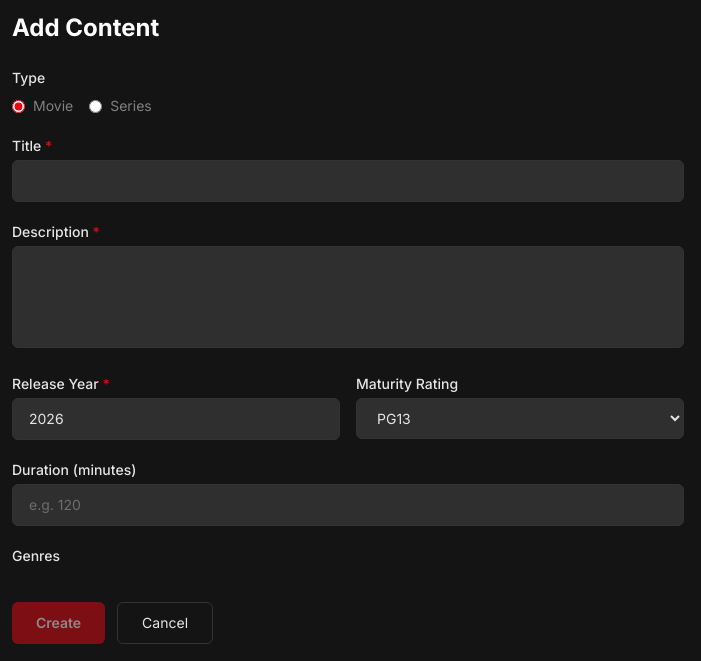
it: ContentForm › hides duration field for Series type
The width and height of the screenshot is (701, 661).
Click the radio button labelled "Series".
click(96, 106)  # box [89,100,102,112]
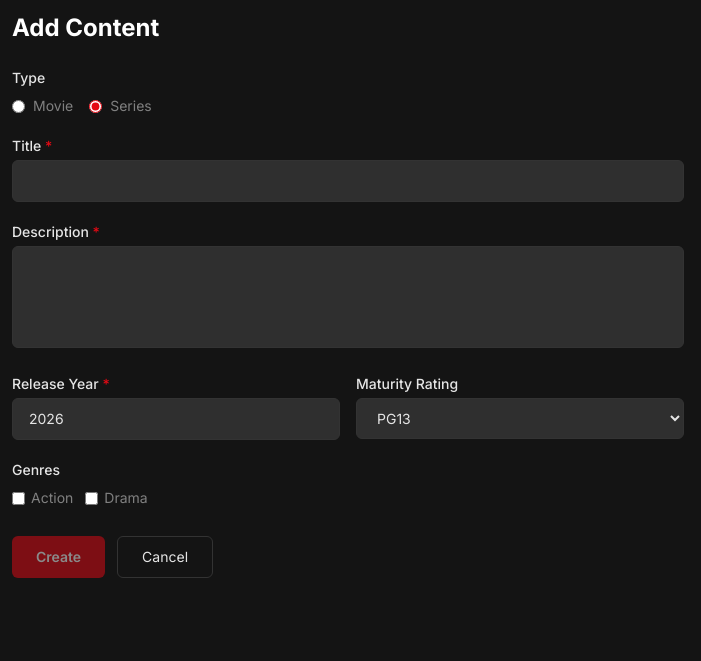
Check: the label labelled "Duration" is gone
